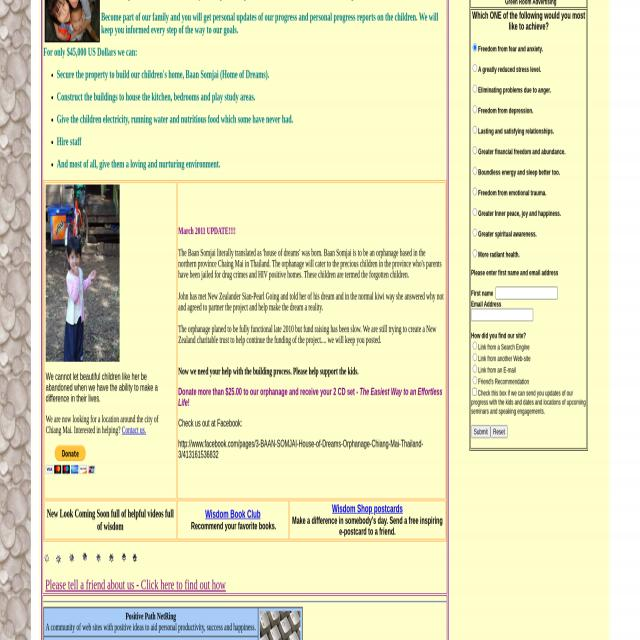button: (46, 184, 120, 362), (44, 0, 99, 42), (46, 445, 96, 474), (43, 552, 138, 567), (472, 425, 491, 438), (490, 425, 508, 438)
field: (496, 287, 558, 299), (471, 309, 533, 321), (473, 105, 477, 114), (473, 125, 477, 134), (473, 146, 477, 154), (473, 167, 477, 175), (473, 208, 477, 216), (473, 228, 477, 236), (473, 250, 477, 258), (473, 354, 477, 362), (473, 364, 477, 372), (473, 376, 477, 384), (473, 388, 477, 396), (473, 44, 477, 52), (473, 64, 477, 72), (473, 84, 477, 92), (473, 188, 477, 195), (473, 342, 477, 349)
